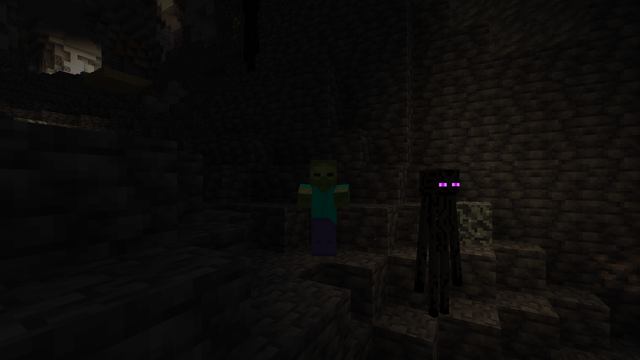endermens: (419, 164, 455, 325), (239, 0, 261, 71)
zombies: (303, 162, 343, 267)
